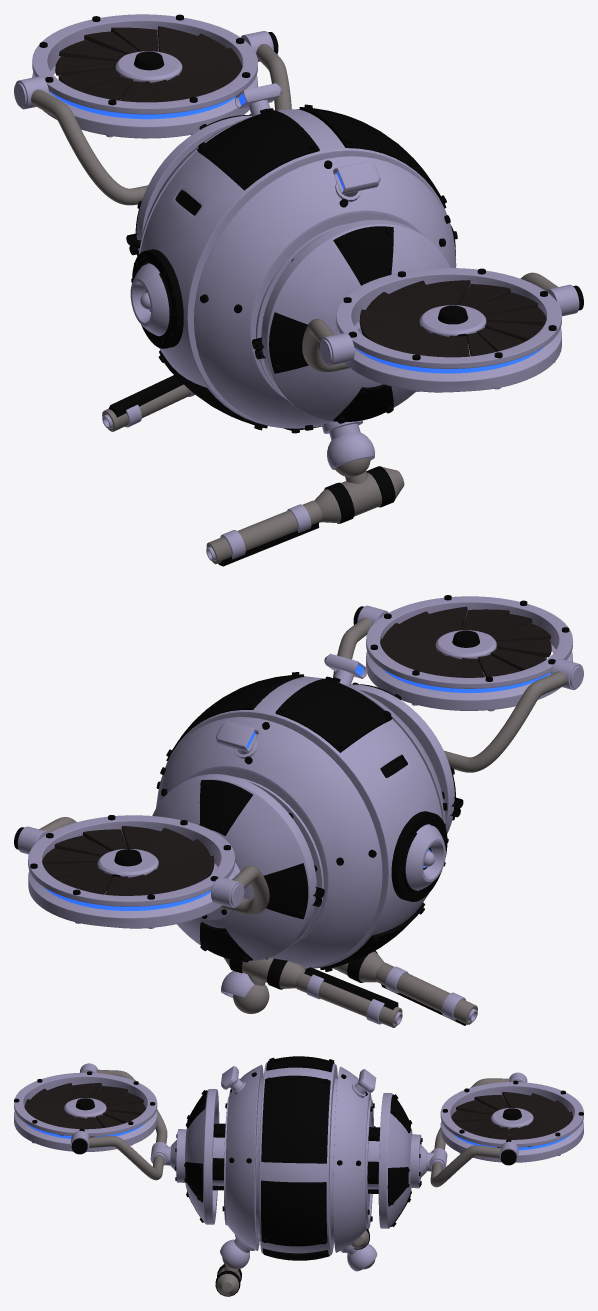
Rendered from sentinel-drone.glb.
3 views of the same model, one above another, from view 1: azimuth 30°, elevation 25°; view 2: azimuth 150°, elevation 25°; view 3: azimuth 270°, elevation 25° (orthographic). The views are drawn at different scales.
Parts seen in each view (by area): view 1: BODY, RIGH PLATE FRAME, LEFT PLATE FRAME, RIGHT PLTE, LEFT PLATE, RIGHT GUN, LEFT PAIPE, EYES, RIGHT PIPE, LIFT GUN, HEAD LIGHT, GUN HIGH; view 2: BODY, LEFT PLATE FRAME, RIGH PLATE FRAME, RIGHT PLTE, LEFT PLATE, LIFT GUN, RIGHT PIPE, EYES, RIGHT GUN, LEFT PAIPE, HEAD LIGHT, GUN HIGH; view 3: BODY, LEFT PLATE FRAME, RIGH PLATE FRAME, LEFT PLATE, RIGHT PLTE, RIGHT PIPE, LEFT PAIPE, GUN HIGH, LEFT HUNGE, RIGHT HUNGE, HEAD LIGHT, RIGHT GUN.
Boxes of the visible parts, left/top/right/bottom form: BODY: left=126, top=104, right=457, bottom=433; RIGH PLATE FRAME: left=319, top=268, right=583, bottom=392; LEFT PLATE FRAME: left=14, top=14, right=278, bottom=138; RIGHT PLTE: left=359, top=280, right=546, bottom=357; LEFT PLATE: left=55, top=26, right=242, bottom=102; RIGHT GUN: left=206, top=458, right=404, bottom=566; LEFT PAIPE: left=15, top=31, right=291, bottom=205; EYES: left=130, top=249, right=183, bottom=348; RIGHT PIPE: left=302, top=272, right=579, bottom=372; LIFT GUN: left=102, top=375, right=194, bottom=431; HEAD LIGHT: left=235, top=83, right=380, bottom=201; GUN HIGH: left=322, top=420, right=374, bottom=469; BODY: left=152, top=672, right=463, bottom=971; LEFT PLATE FRAME: left=14, top=815, right=244, bottom=928; RIGH PLATE FRAME: left=353, top=595, right=583, bottom=711; RIGHT PLTE: left=380, top=606, right=551, bottom=677; LEFT PLATE: left=42, top=826, right=214, bottom=895; LIFT GUN: left=223, top=957, right=402, bottom=1027; RIGHT PIPE: left=333, top=605, right=582, bottom=772; EYES: left=391, top=811, right=447, bottom=901; RIGHT GUN: left=332, top=950, right=477, bottom=1025; LEFT PAIPE: left=17, top=817, right=269, bottom=914; HEAD LIGHT: left=216, top=653, right=367, bottom=758; GUN HIGH: left=221, top=971, right=254, bottom=997; BODY: left=184, top=1056, right=412, bottom=1260; LEFT PLATE FRAME: left=440, top=1080, right=583, bottom=1165; RIGH PLATE FRAME: left=14, top=1071, right=157, bottom=1154; LEFT PLATE: left=451, top=1091, right=572, bottom=1147; RIGHT PLTE: left=24, top=1083, right=145, bottom=1137; RIGHT PIPE: left=70, top=1063, right=167, bottom=1180; LEFT PAIPE: left=430, top=1072, right=527, bottom=1187; GUN HIGH: left=220, top=1235, right=377, bottom=1271; LEFT HUNGE: left=410, top=1134, right=447, bottom=1188; RIGHT HUNGE: left=150, top=1129, right=186, bottom=1182; HEAD LIGHT: left=221, top=1066, right=376, bottom=1097; RIGHT GUN: left=215, top=1257, right=241, bottom=1296.
Bounding box in the file's own units: 1.93 × 2.35 × 5.11.
